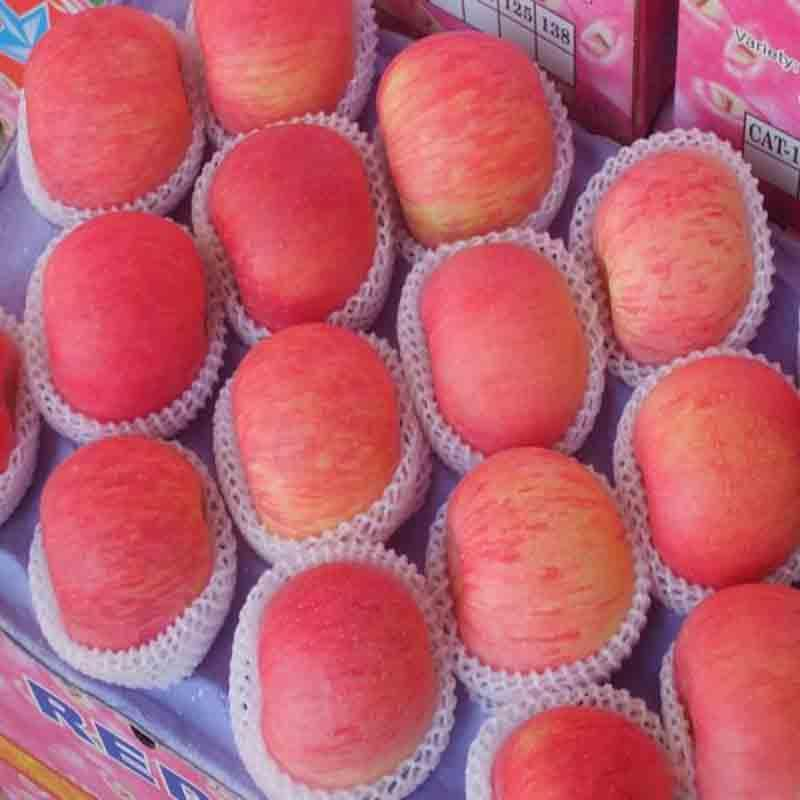apple: (618, 365, 800, 620), (441, 445, 630, 673), (257, 563, 446, 791), (371, 27, 565, 249), (37, 214, 212, 425), (225, 325, 400, 536), (40, 436, 215, 647), (594, 145, 763, 356), (207, 125, 374, 325), (422, 250, 589, 450), (27, 10, 188, 210), (189, 1, 353, 136)
